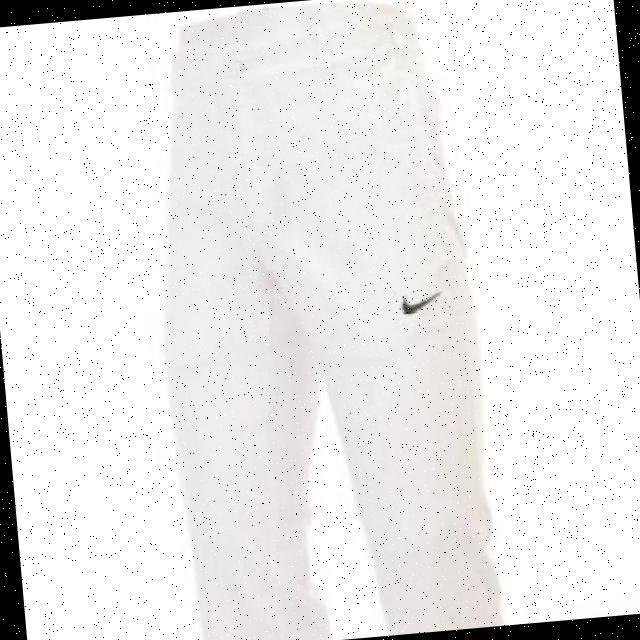Nike: (397, 289, 441, 315)
